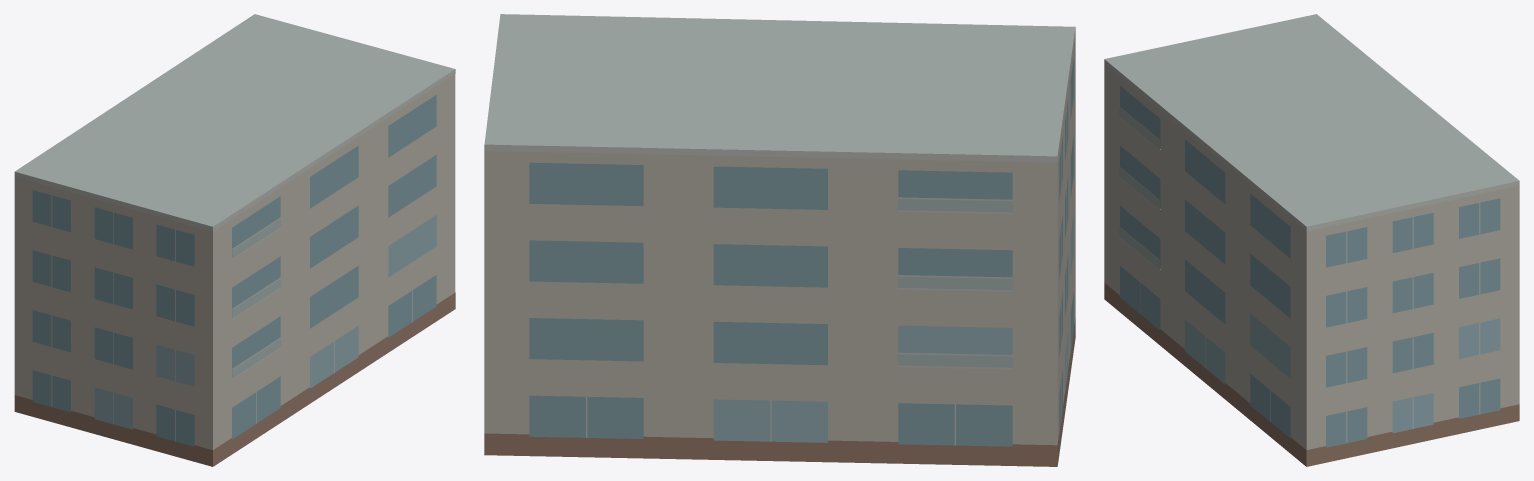
Rendered from survey-upis-32837036.glb.
3 views of the same model, side by side, from view 1: azimuth 30°, elevation 25°; view 2: azimuth 150°, elevation 25°; view 3: azimuth 270°, elevation 25° (orthographic). The views are drawn at different scales.
Parts seen in each view (by area): view 1: survey-upis-32837036.tmp; view 2: survey-upis-32837036.tmp; view 3: survey-upis-32837036.tmp.
Boxes of the visible parts, x1,y1,x2,y2 form: survey-upis-32837036.tmp: (14,14,455,466); survey-upis-32837036.tmp: (484,14,1075,466); survey-upis-32837036.tmp: (1104,14,1519,466).
Size of the model in its own units: 22.9 by 12.05 by 18.9.
